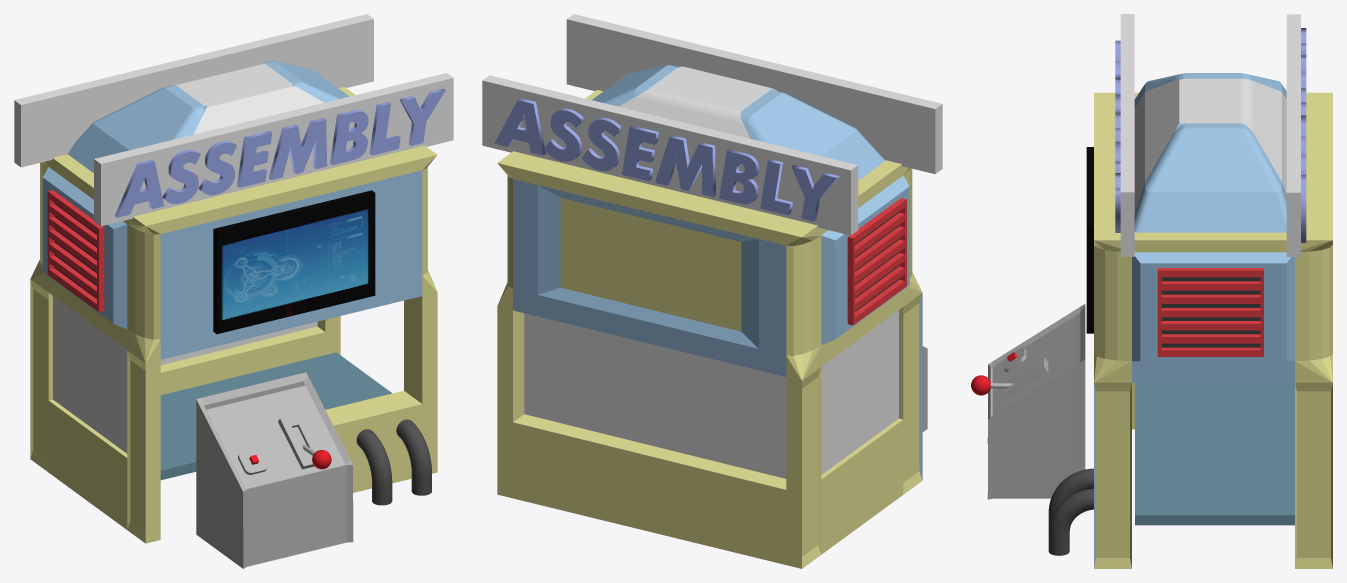
File: ST_Asseblay.fbx
3 renders of one model, left to right at view 1: azimuth 30°, elevation 25°; view 2: azimuth 150°, elevation 25°; view 3: azimuth 270°, elevation 25°, orthographic. The views are drawn at different scales.
Visible parts, largest first — view 1: Frame, Text, Button, BigScreen, Glass, Hydraulics, Sink1, Tube; view 2: Frame, Text, Glass, Sink1; view 3: Frame, Hydraulics, Button, Text, Sinkl2, Tube, BigScreen, Button.001.
Boxes of the visible parts, x1,y1,x2,y2 form: Frame: (30,61,437,543); Text: (14,14,453,226); Button: (196,372,353,568); BigScreen: (213,190,375,334); Glass: (53,296,317,453); Hydraulics: (160,352,392,480); Sink1: (47,190,104,312); Tube: (356,419,431,505); Frame: (497,65,922,568); Text: (482,14,942,235); Glass: (524,310,898,478); Sink1: (847,198,906,325); Frame: (1094,73,1332,568); Hydraulics: (1135,382,1294,525); Button: (987,304,1085,499); Text: (1115,14,1306,256); Sinkl2: (1157,268,1263,356); Tube: (1048,468,1093,555); BigScreen: (1086,147,1093,333); Button.001: (971,375,1013,395).
Bounding box in the file's own units: 179 × 184 × 153.
Materials: 17 (1 with a texture image).
